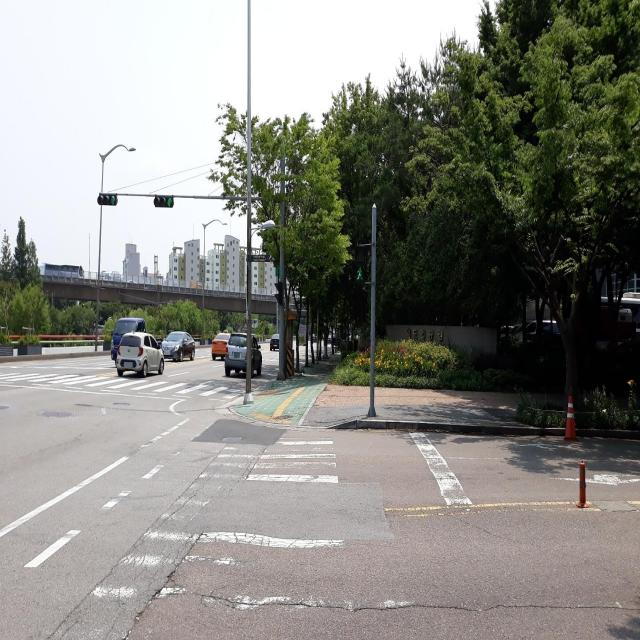횡단보도: (90, 436, 354, 615), (0, 372, 247, 394)
